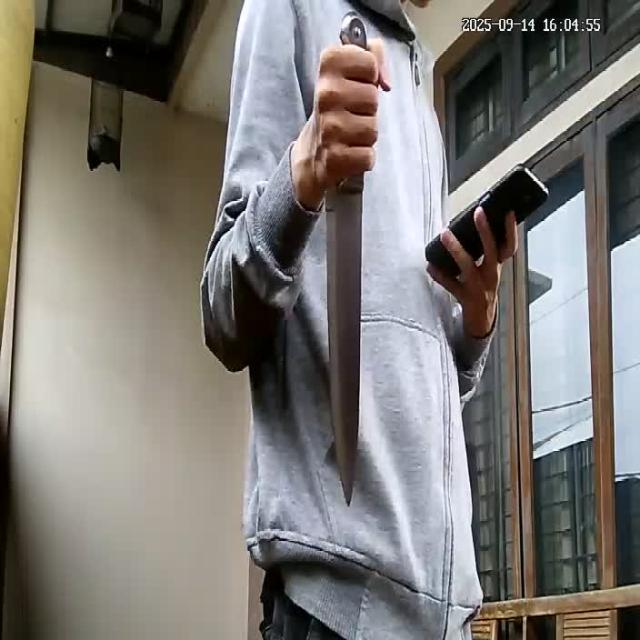senjata_tajam: (323, 179, 368, 507)
